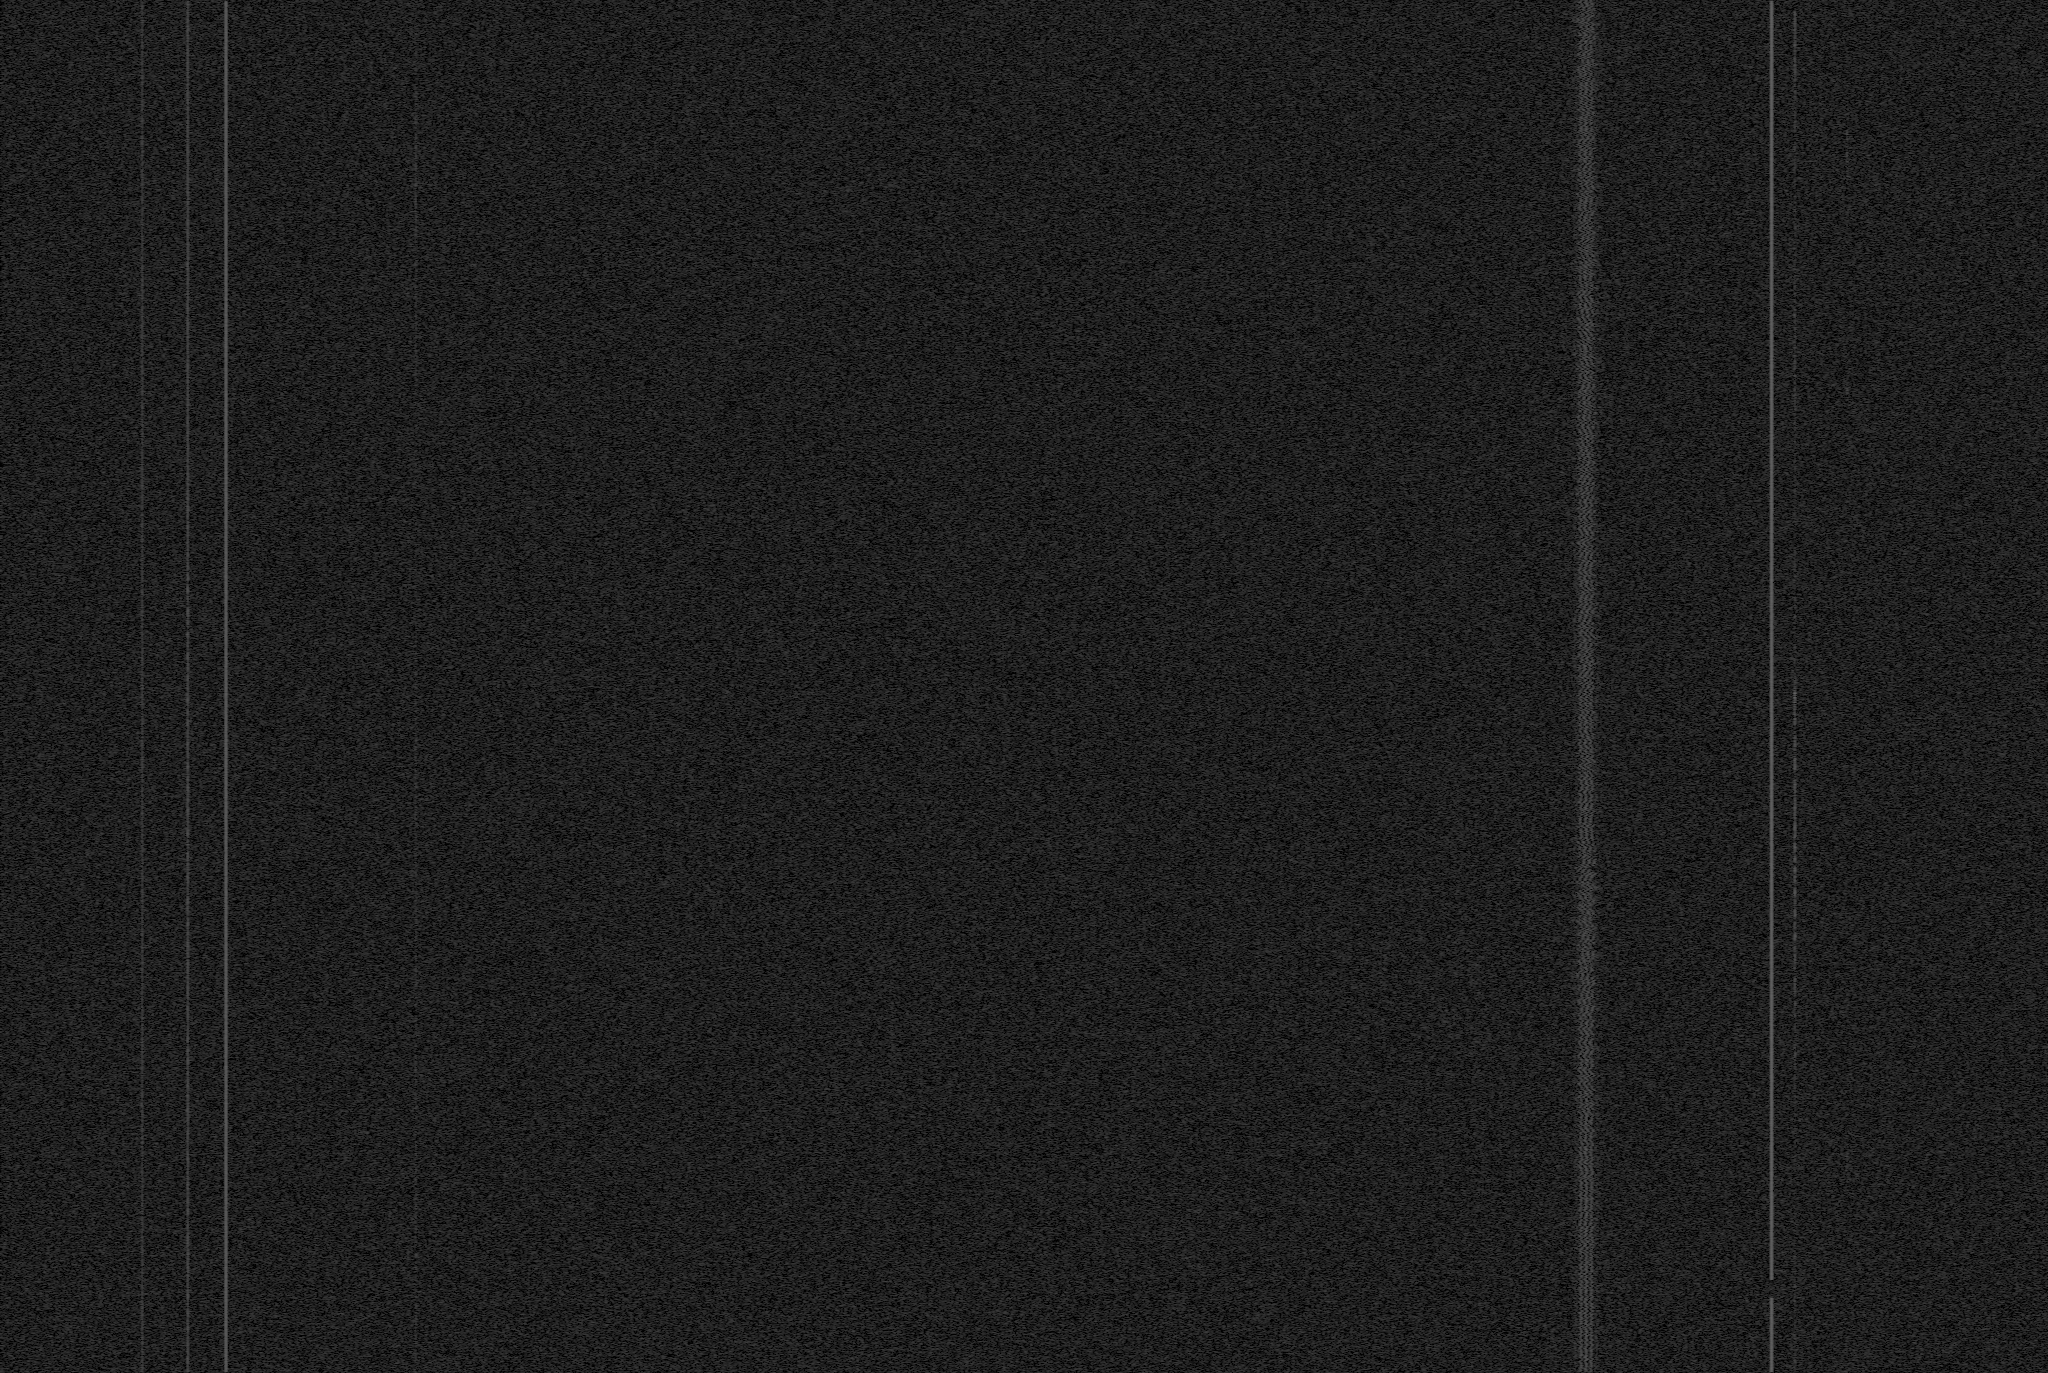wv_am: (185, 0, 191, 1371)
wv_cw: (218, 0, 234, 1373), (1768, 0, 1775, 1280), (139, 0, 146, 1373), (1758, 1296, 1785, 1373)
wv_lsb: (1792, 650, 1798, 942), (1792, 245, 1797, 464), (1792, 1221, 1797, 1371), (1792, 944, 1798, 1040), (1792, 11, 1798, 103), (1792, 1042, 1797, 1137), (1794, 104, 1797, 238), (1794, 529, 1797, 611), (1794, 1163, 1797, 1221), (1794, 500, 1797, 529), (1794, 467, 1797, 496), (1794, 1139, 1797, 1162), (1794, 611, 1797, 634), (1794, 636, 1797, 650), (1794, 238, 1797, 244)
wv_usb: (414, 745, 418, 942), (414, 132, 418, 310), (414, 601, 418, 729), (414, 1250, 418, 1371), (414, 1151, 418, 1250), (414, 1014, 418, 1112), (414, 342, 418, 409), (1844, 129, 1850, 164), (414, 67, 418, 109), (414, 942, 418, 981), (414, 1112, 418, 1149), (1844, 165, 1850, 192), (414, 981, 418, 1013), (414, 451, 418, 483), (1844, 1163, 1849, 1194), (414, 311, 418, 342), (1844, 386, 1850, 401), (1844, 912, 1849, 932), (414, 110, 418, 130), (1844, 893, 1849, 912), (414, 729, 418, 745), (414, 546, 418, 559), (414, 437, 418, 451), (414, 578, 418, 590), (414, 521, 418, 533), (414, 411, 418, 423), (1844, 1151, 1849, 1162), (1844, 411, 1849, 421), (414, 487, 418, 498), (414, 38, 418, 49), (414, 591, 418, 601), (414, 559, 418, 569), (414, 503, 418, 512), (414, 424, 418, 434), (414, 57, 418, 66), (414, 21, 418, 31), (1846, 98, 1849, 110), (1844, 1364, 1849, 1371), (414, 569, 418, 576), (1846, 205, 1849, 216), (1846, 63, 1849, 72), (1846, 1283, 1849, 1292), (414, 51, 418, 57), (414, 32, 418, 38), (414, 11, 418, 17), (1844, 1217, 1849, 1221), (414, 541, 418, 546), (1844, 1263, 1849, 1267), (1846, 1247, 1849, 1253), (1846, 1345, 1849, 1352), (1846, 1204, 1849, 1209), (1846, 403, 1849, 408), (1846, 198, 1849, 202), (1846, 113, 1849, 118), (1846, 1335, 1849, 1339), (1846, 1306, 1849, 1310), (414, 535, 418, 538), (414, 513, 418, 516), (1844, 1276, 1849, 1280), (1846, 458, 1849, 461), (1846, 444, 1849, 447), (1846, 428, 1849, 431), (1846, 224, 1849, 227), (1846, 124, 1849, 127), (1846, 120, 1849, 123), (1846, 1316, 1849, 1319)
wv_wbfm: (1565, 0, 1607, 1373)
